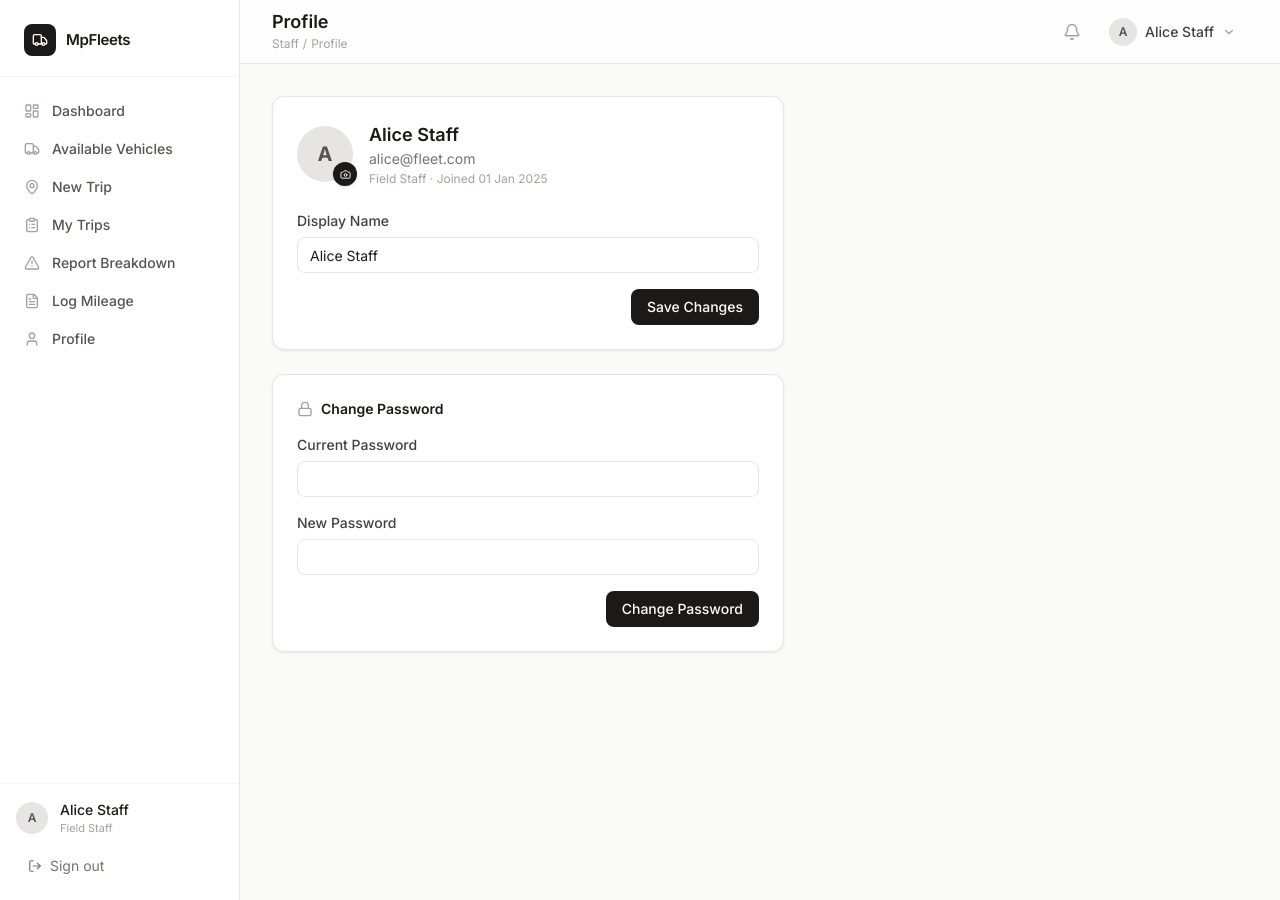
Scenario: StaffProfilePage — profile picture upload › the "Save Photo" button is disabled until a file is uploaded to Cloudinary
Check: the text "alice@fleet.com" is shown, box [369,150,476,167]
Click the button titled "Change photo".
click(345, 174)  # box [333,162,357,186]
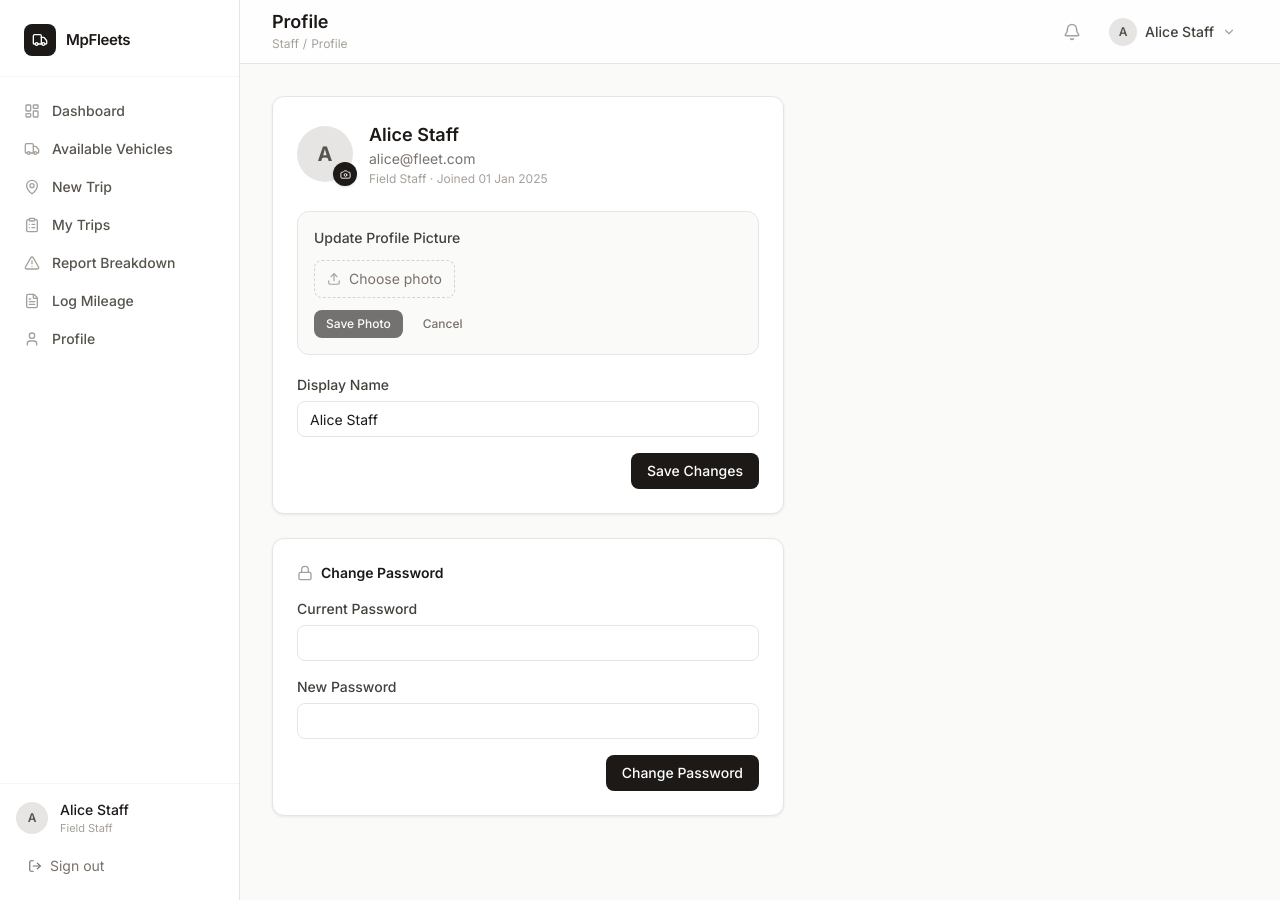
Check: the button "Save Photo" is disabled, box [314,310,403,338]
